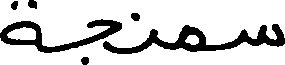ة: (0, 0, 41, 53)
ج: (78, 17, 122, 64)
س: (242, 22, 283, 48)
م: (177, 22, 205, 51)
ن: (129, 12, 158, 49)
